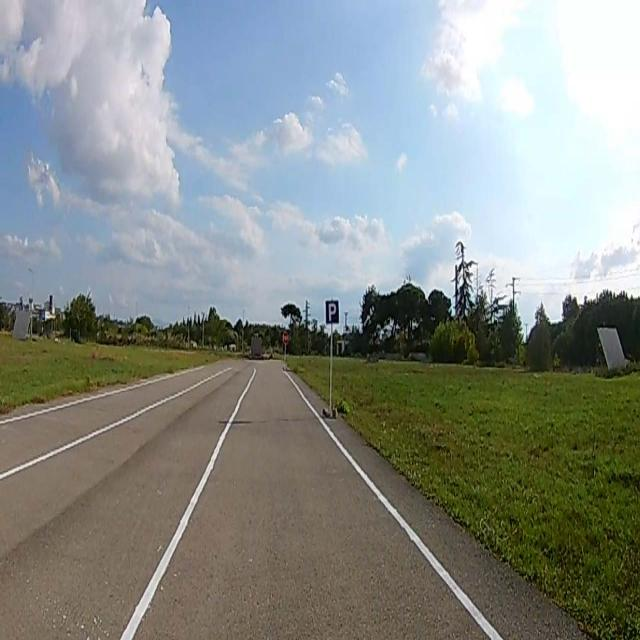park: (324, 300, 338, 322)
